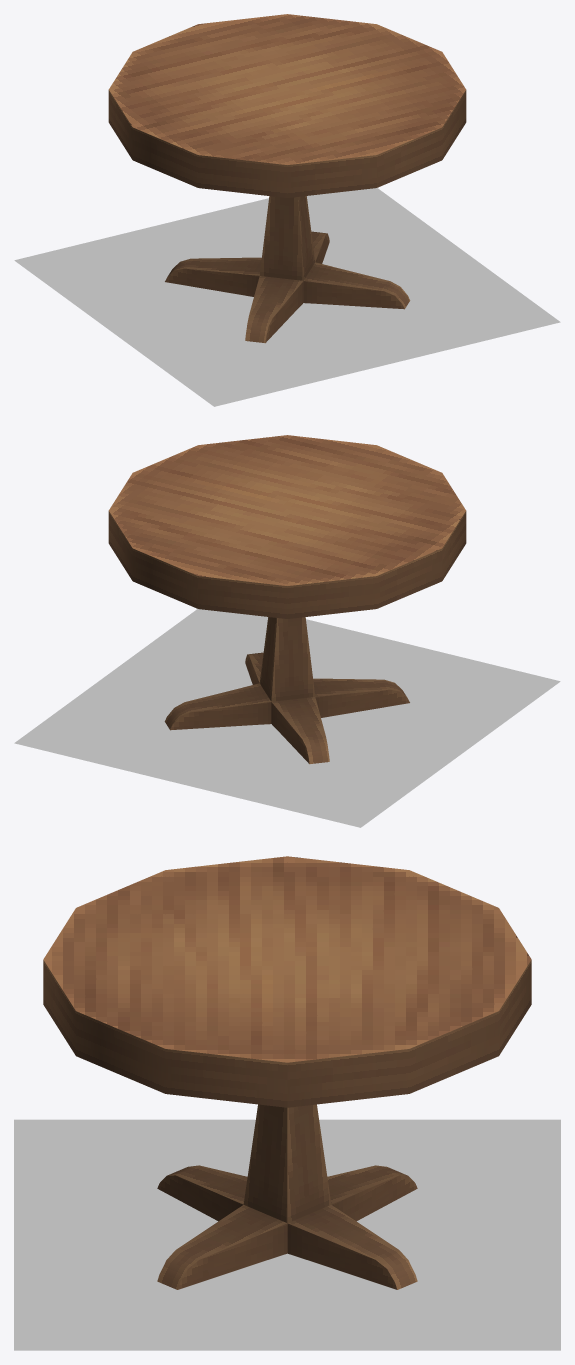
Rendered from Wooden Table.fbx.
The picture shows the model from 3 angles, top to bottom: view 1: azimuth 30°, elevation 25°; view 2: azimuth 150°, elevation 25°; view 3: azimuth 270°, elevation 25°; orthographic projection. The views are drawn at different scales.
Visible parts, largest first — view 1: obj_table_001, shadow; view 2: obj_table_001, shadow; view 3: obj_table_001, shadow.
Boxes of the visible parts, box(x1,y1,x2,y2) form: obj_table_001: box(108, 14, 466, 343); shadow: box(14, 188, 560, 406); obj_table_001: box(108, 435, 466, 764); shadow: box(14, 609, 560, 827); obj_table_001: box(43, 856, 531, 1289); shadow: box(14, 1119, 560, 1350).
Size of the model in its own units: 1.1 by 0.6214 by 1.1.
